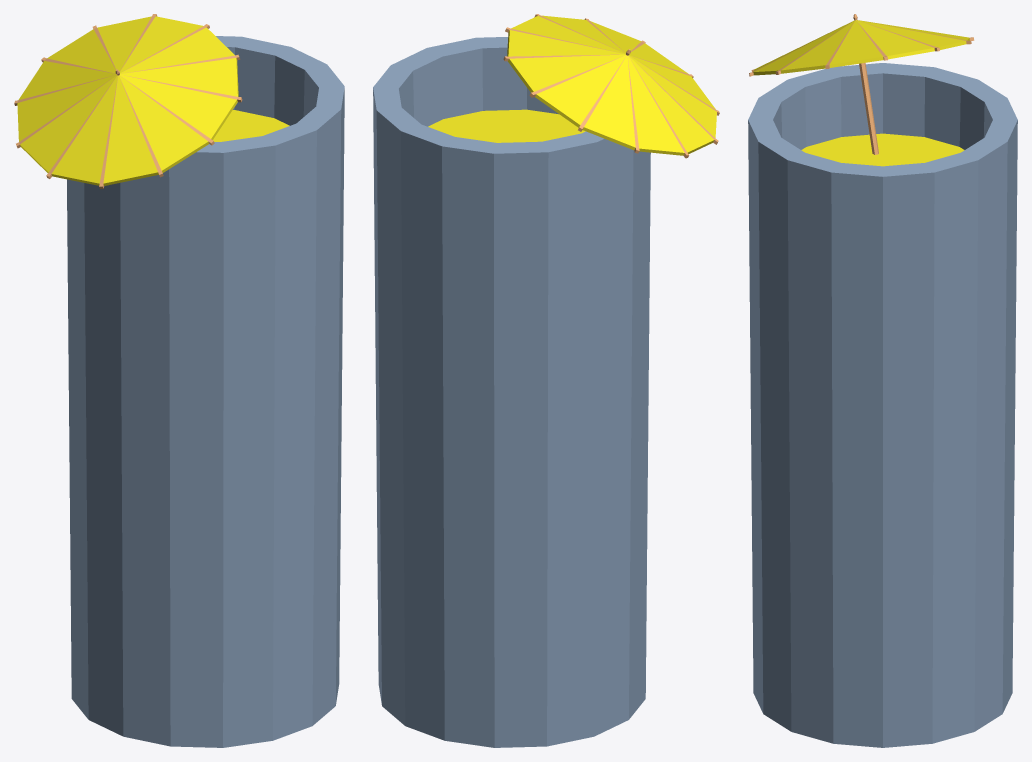
File: Cocktail_04.fbx
3 views of the same model, side by side, from view 1: azimuth 30°, elevation 25°; view 2: azimuth 150°, elevation 25°; view 3: azimuth 270°, elevation 25° (orthographic). The views are drawn at different scales.
Parts seen in each view (by area): view 1: Cocktail_04; view 2: Cocktail_04; view 3: Cocktail_04.
Boxes of the visible parts, x1,y1,x2,y2 form: Cocktail_04: [14, 14, 344, 747]; Cocktail_04: [373, 14, 719, 747]; Cocktail_04: [748, 14, 1017, 747].
Bounding box in the file's own units: 8.72 × 18.18 × 6.96.
